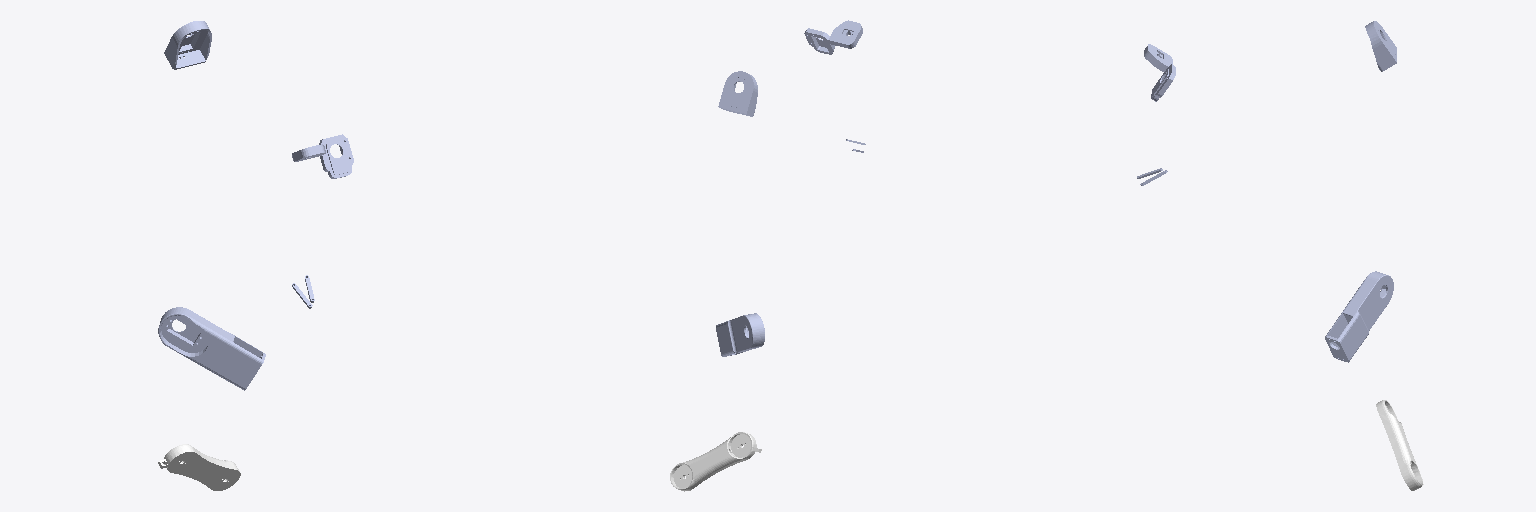
The robot description file, URDF, robot "robot_arm_urdf":
<?xml version="1.0" encoding="utf-8"?>
<!-- This URDF was automatically created by SolidWorks to URDF Exporter! Originally created by Stephen Brawner (brawner@gmail.com) 
     Commit Version: 1.5.1-0-g916b5db  Build Version: 1.5.7152.31018
     For more information, please see http://wiki.ros.org/sw_urdf_exporter -->
<robot
  name="robot_arm_urdf">
<link name="world"/>

<joint name="base_joint" type="fixed">
<parent link="world"/>
<child link="base_link"/>
<origin rpy="0 0 0" xyz="0.0 0.0 0.00"/>
</joint>

  <link
    name="base_link">
    <inertial>
      <origin
        xyz="4.1633E-17 0 0.073876"
        rpy="0 0 0" />
      <mass
        value="17.147" />
      <inertia
        ixx="0.192"
        ixy="-4.9423E-10"
        ixz="1.2752E-17"
        iyy="0.192"
        iyz="2.6417E-18"
        izz="0.29544" />
    </inertial>
    <visual>
      <origin
        xyz="0 0 0"
        rpy="0 0 0" />
      <geometry>
        <mesh
          filename="package://robot_arm_urdf/meshes/base_link.STL" />
      </geometry>
      <material
        name="">
        <color
          rgba="0.79216 0.81961 0.93333 1" />
      </material>
    </visual>
    <collision>
      <origin
        xyz="0 0 0"
        rpy="0 0 0" />
      <geometry>
        <mesh
          filename="package://robot_arm_urdf/meshes/base_link.STL" />
      </geometry>
    </collision>
  </link>
  <link
    name="link_1">
    <inertial>
      <origin
        xyz="-2.5757E-14 0.11047 -7.8988E-11"
        rpy="0 0 0" />
      <mass
        value="3.0905" />
      <inertia
        ixx="0.026302"
        ixy="-2.5267E-15"
        ixz="-1.4177E-12"
        iyy="0.019632"
        iyz="-7.4535E-12"
        izz="0.025388" />
    </inertial>
    <visual>
      <origin
        xyz="0 0 0"
        rpy="0 0 0" />
      <geometry>
        <mesh
          filename="package://robot_arm_urdf/meshes/link_1.STL" />
      </geometry>
      <material
        name="">
        <color
          rgba="1 1 1 1" />
      </material>
    </visual>
    <collision>
      <origin
        xyz="0 0 0"
        rpy="0 0 0" />
      <geometry>
        <mesh
          filename="package://robot_arm_urdf/meshes/link_1.STL" />
      </geometry>
    </collision>
  </link>
  <joint
    name="joint_1"
    type="revolute">
    <origin
      xyz="0 0 0.2"
      rpy="1.5708 0 1.5708" />
    <parent
      link="base_link" />
    <child
      link="link_1" />
    <axis
      xyz="0 1 0" />
    <limit
      lower="0"
      upper="3.142"
      effort="300"
      velocity="3" />
  </joint>
  <link
    name="link_2">
    <inertial>
      <origin
        xyz="-1.1102E-16 0.16752 -2.498E-16"
        rpy="0 0 0" />
      <mass
        value="5.5867" />
      <inertia
        ixx="0.12632"
        ixy="8.4877E-17"
        ixz="7.8685E-19"
        iyy="0.011401"
        iyz="1.4432E-16"
        izz="0.12911" />
    </inertial>
    <visual>
      <origin
        xyz="0 0 0"
        rpy="0 0 0" />
      <geometry>
        <mesh
          filename="package://robot_arm_urdf/meshes/link_2.STL" />
      </geometry>
      <material
        name="">
        <color
          rgba="0.79216 0.81961 0.93333 1" />
      </material>
    </visual>
    <collision>
      <origin
        xyz="0 0 0"
        rpy="0 0 0" />
      <geometry>
        <mesh
          filename="package://robot_arm_urdf/meshes/link_2.STL" />
      </geometry>
    </collision>
  </link>
  <joint
    name="joint_2"
    type="revolute">
    <origin
      xyz="0 0.205 0"
      rpy="0 0 0" />
    <parent
      link="link_1" />
    <child
      link="link_2" />
    <axis
      xyz="0 0 1" />
    <limit
      lower="-1.57"
      upper="1.57"
      effort="200"
      velocity="3" />
  </joint>
  <link
    name="link_3">
    <inertial>
      <origin
        xyz="-0.17893 0 -1.249E-16"
        rpy="0 0 0" />
      <mass
        value="2.8262" />
      <inertia
        ixx="0.0074041"
        ixy="-1.7927E-17"
        ixz="4.2672E-17"
        iyy="0.028552"
        iyz="-3.4736E-10"
        izz="0.025128" />
    </inertial>
    <visual>
      <origin
        xyz="0 0 0"
        rpy="0 0 0" />
      <geometry>
        <mesh
          filename="package://robot_arm_urdf/meshes/link_3.STL" />
      </geometry>
      <material
        name="">
        <color
          rgba="0.79216 0.81961 0.93333 1" />
      </material>
    </visual>
    <collision>
      <origin
        xyz="0 0 0"
        rpy="0 0 0" />
      <geometry>
        <mesh
          filename="package://robot_arm_urdf/meshes/link_3.STL" />
      </geometry>
    </collision>
  </link>
  <joint
    name="joint_3"
    type="revolute">
    <origin
      xyz="0 0.4 0"
      rpy="0 0 0" />
    <parent
      link="link_2" />
    <child
      link="link_3" />
    <axis
      xyz="0 0 1" />
    <limit
      lower="0"
      upper="3.142"
      effort="200"
      velocity="3" />
  </joint>
  <link
    name="link_4">
    <inertial>
      <origin
        xyz="-0.051672 -2.2204E-16 -1.1102E-16"
        rpy="0 0 0" />
      <mass
        value="1.8097" />
      <inertia
        ixx="0.0023112"
        ixy="-9.6437E-18"
        ixz="-9.9829E-19"
        iyy="0.0096102"
        iyz="1.3194E-19"
        izz="0.0093908" />
    </inertial>
    <visual>
      <origin
        xyz="0 0 0"
        rpy="0 0 0" />
      <geometry>
        <mesh
          filename="package://robot_arm_urdf/meshes/link_4.STL" />
      </geometry>
      <material
        name="">
        <color
          rgba="0.79216 0.81961 0.93333 1" />
      </material>
    </visual>
    <collision>
      <origin
        xyz="0 0 0"
        rpy="0 0 0" />
      <geometry>
        <mesh
          filename="package://robot_arm_urdf/meshes/link_4.STL" />
      </geometry>
    </collision>
  </link>
  <joint
    name="joint_4"
    type="revolute">
    <origin
      xyz="-0.35 0 0"
      rpy="0 0 1.5708" />
    <parent
      link="link_3" />
    <child
      link="link_4" />
    <axis
      xyz="0 0 1" />
    <limit
      lower="-3.142"
      upper="0"
      effort="200"
      velocity="3" />
  </joint>
  <link
    name="link_5">
    <inertial>
      <origin
        xyz="-0.018544 0 -2.7756E-17"
        rpy="0 0 0" />
      <mass
        value="0.19053" />
      <inertia
        ixx="0.00030197"
        ixy="1.6611E-20"
        ixz="3.6309E-21"
        iyy="0.00022817"
        iyz="-1.9664E-11"
        izz="0.00011843" />
    </inertial>
    <visual>
      <origin
        xyz="0 0 0"
        rpy="0 0 0" />
      <geometry>
        <mesh
          filename="package://robot_arm_urdf/meshes/link_5.STL" />
      </geometry>
      <material
        name="">
        <color
          rgba="0.79216 0.81961 0.93333 1" />
      </material>
    </visual>
    <collision>
      <origin
        xyz="0 0 0"
        rpy="0 0 0" />
      <geometry>
        <mesh
          filename="package://robot_arm_urdf/meshes/link_5.STL" />
      </geometry>
    </collision>
  </link>
  <joint
    name="joint_5"
    type="revolute">
    <origin
      xyz="-0.188 0 0"
      rpy="0 0 0" />
    <parent
      link="link_4" />
    <child
      link="link_5" />
    <axis
      xyz="1 0 0" />
    <limit
      lower="0"
      upper="3.142"
      effort="200"
      velocity="3" />
  </joint>
  <link
    name="link_6">
    <inertial>
      <origin
        xyz="-0.60237 0.4 -0.016013"
        rpy="0 0 0" />
      <mass
        value="0.11653" />
      <inertia
        ixx="3.9246E-05"
        ixy="-9.4878E-20"
        ixz="1.0258E-05"
        iyy="7.1189E-05"
        iyz="-3.4206E-20"
        izz="8.4875E-05" />
    </inertial>
    <visual>
      <origin
        xyz="0 0 0"
        rpy="0 0 0" />
      <geometry>
        <mesh
          filename="package://robot_arm_urdf/meshes/link_6.STL" />
      </geometry>
      <material
        name="">
        <color
          rgba="0.79216 0.81961 0.93333 1" />
      </material>
    </visual>
    <collision>
      <origin
        xyz="0 0 0"
        rpy="0 0 0" />
      <geometry>
        <mesh
          filename="package://robot_arm_urdf/meshes/link_6.STL" />
      </geometry>
    </collision>
  </link>
  <joint
    name="joint_6"
    type="prismatic">
    <origin
      xyz="0.54 -0.4 0"
      rpy="0 0 0" />
    <parent
      link="link_5" />
    <child
      link="link_6" />
    <axis
      xyz="0 0 -1" />
    <limit
      lower="0"
      upper="0.03"
      effort="100"
      velocity="3" />
  </joint>
  <link
    name="link_7">
    <inertial>
      <origin
        xyz="-0.60237 0.4 -0.016013"
        rpy="0 0 0" />
      <mass
        value="0.11653" />
      <inertia
        ixx="3.9246E-05"
        ixy="-4.7946E-20"
        ixz="1.0258E-05"
        iyy="7.1189E-05"
        iyz="-3.946E-20"
        izz="8.4875E-05" />
    </inertial>
    <visual>
      <origin
        xyz="0 0 0"
        rpy="0 0 0" />
      <geometry>
        <mesh
          filename="package://robot_arm_urdf/meshes/link_7.STL" />
      </geometry>
      <material
        name="">
        <color
          rgba="0.79216 0.81961 0.93333 1" />
      </material>
    </visual>
    <collision>
      <origin
        xyz="0 0 0"
        rpy="0 0 0" />
      <geometry>
        <mesh
          filename="package://robot_arm_urdf/meshes/link_7.STL" />
      </geometry>
    </collision>
  </link>
  <joint
    name="joint_7"
    type="prismatic">
    <origin
      xyz="0.54 0.4 0"
      rpy="3.1416 0 0" />
    <parent
      link="link_5" />
    <child
      link="link_7" />
    <axis
      xyz="0 0 1" />
    <limit
      lower="-0.03"
      upper="0"
      effort="100"
      velocity="3" />
  </joint>
  
	<transmission name="link_1_trans">
	<type>transmission_interface/SimpleTransmission</type>
	<joint name="joint_1">
	<hardwareInterface>hardware_interface/PositionJointInterface</hardwareInterface>
	</joint>
	<actuator name="link_1_motor">
	<hardwareInterface>hardware_interface/PositionJointInterface</hardwareInterface>
	<mechanicalReduction>1</mechanicalReduction>
	</actuator>
	</transmission>

	<transmission name="link_2_trans">
	<type>transmission_interface/SimpleTransmission</type>
	<joint name="joint_2">
	<hardwareInterface>hardware_interface/PositionJointInterface</hardwareInterface>
	</joint>
	<actuator name="link_2_motor">
	<hardwareInterface>hardware_interface/PositionJointInterface</hardwareInterface>
	<mechanicalReduction>1</mechanicalReduction>
	</actuator>
	</transmission>

	<transmission name="link_3_trans">
	<type>transmission_interface/SimpleTransmission</type>
	<joint name="joint_3">
	<hardwareInterface>hardware_interface/PositionJointInterface</hardwareInterface>
	</joint>
	<actuator name="link_3_motor">
	<hardwareInterface>hardware_interface/PositionJointInterface</hardwareInterface>
	<mechanicalReduction>1</mechanicalReduction>
	</actuator>
	</transmission>

	<transmission name="link_4_trans">
	<type>transmission_interface/SimpleTransmission</type>
	<joint name="joint_4">
	<hardwareInterface>hardware_interface/PositionJointInterface</hardwareInterface>
	</joint>
	<actuator name="link_4_motor">
	<hardwareInterface>hardware_interface/PositionJointInterface</hardwareInterface>
	<mechanicalReduction>1</mechanicalReduction>
	</actuator>
	</transmission>

	<transmission name="link_5_trans">
	<type>transmission_interface/SimpleTransmission</type>
	<joint name="joint_5">
	<hardwareInterface>hardware_interface/PositionJointInterface</hardwareInterface>
	</joint>
	<actuator name="link_5_motor">
	<hardwareInterface>hardware_interface/PositionJointInterface</hardwareInterface>
	<mechanicalReduction>1</mechanicalReduction>
	</actuator>
	</transmission>

	<transmission name="link_6_trans">
	<type>transmission_interface/SimpleTransmission</type>
	<joint name="joint_6">
	<hardwareInterface>hardware_interface/PositionJointInterface</hardwareInterface>
	</joint>
	<actuator name="link_6_motor">
	<hardwareInterface>hardware_interface/PositionJointInterface</hardwareInterface>
	<mechanicalReduction>1</mechanicalReduction>
	</actuator>
	</transmission>

	<transmission name="link_7_trans">
	<type>transmission_interface/SimpleTransmission</type>
	<joint name="joint_7">
	<hardwareInterface>hardware_interface/PositionJointInterface</hardwareInterface>
	</joint>
	<actuator name="link_7_motor">
	<hardwareInterface>hardware_interface/PositionJointInterface</hardwareInterface>
	<mechanicalReduction>1</mechanicalReduction>
	</actuator>
	</transmission>

   <gazebo>
	<plugin name="control" filename="libgazebo_ros_control.so">
	<robotNamespace>/</robotNamespace>
	</plugin>
   </gazebo>
   
   <gazebo reference="link_1">
	<selfCollide>true</selfCollide>
   </gazebo>
      <gazebo reference="link_2">
	<selfCollide>true</selfCollide>
   </gazebo>
      <gazebo reference="link_3">
	<selfCollide>true</selfCollide>
   </gazebo>
      <gazebo reference="link_4">
	<selfCollide>true</selfCollide>
   </gazebo>
      <gazebo reference="link_5">
	<selfCollide>true</selfCollide>
   </gazebo>
      <gazebo reference="link_6">
	<selfCollide>true</selfCollide>
   </gazebo>
      <gazebo reference="link_7">
	<selfCollide>true</selfCollide>
   </gazebo>

</robot>

--- What the picture shows (computed from the rendered views, not written in the file) ---
The picture shows the robot from 3 angles, left to right: view 1: azimuth 30°, elevation 25°; view 2: azimuth 150°, elevation 25°; view 3: azimuth 270°, elevation 25°; orthographic projection.
Model robot_arm_urdf with 9 links and 8 joints (5 revolute, 2 prismatic, 1 fixed), rooted at world, posed every joint at zero.
Visible links, largest first — view 1: link_2, link_1, link_3, link_4; view 2: link_1, link_2, link_3, link_4; view 3: link_2, link_1, link_3, link_4.
Boxes of the visible links, bbox=[...] form: link_2: bbox=[158, 307, 265, 390]; link_1: bbox=[158, 444, 240, 490]; link_3: bbox=[164, 21, 211, 69]; link_4: bbox=[292, 134, 353, 178]; link_1: bbox=[670, 432, 761, 491]; link_2: bbox=[716, 313, 764, 356]; link_3: bbox=[718, 71, 757, 116]; link_4: bbox=[804, 20, 862, 54]; link_2: bbox=[1325, 271, 1393, 362]; link_1: bbox=[1376, 400, 1423, 490]; link_3: bbox=[1365, 21, 1396, 71]; link_4: bbox=[1144, 44, 1175, 101].
Bounding box of the posed robot: 0.1506 × 0.4395 × 0.7533 m (x, y, z).
5 mesh visuals loaded from 8 distinct referenced files (5 binary STL); not drawn: 3 (reference not matched to a file when rendering).
